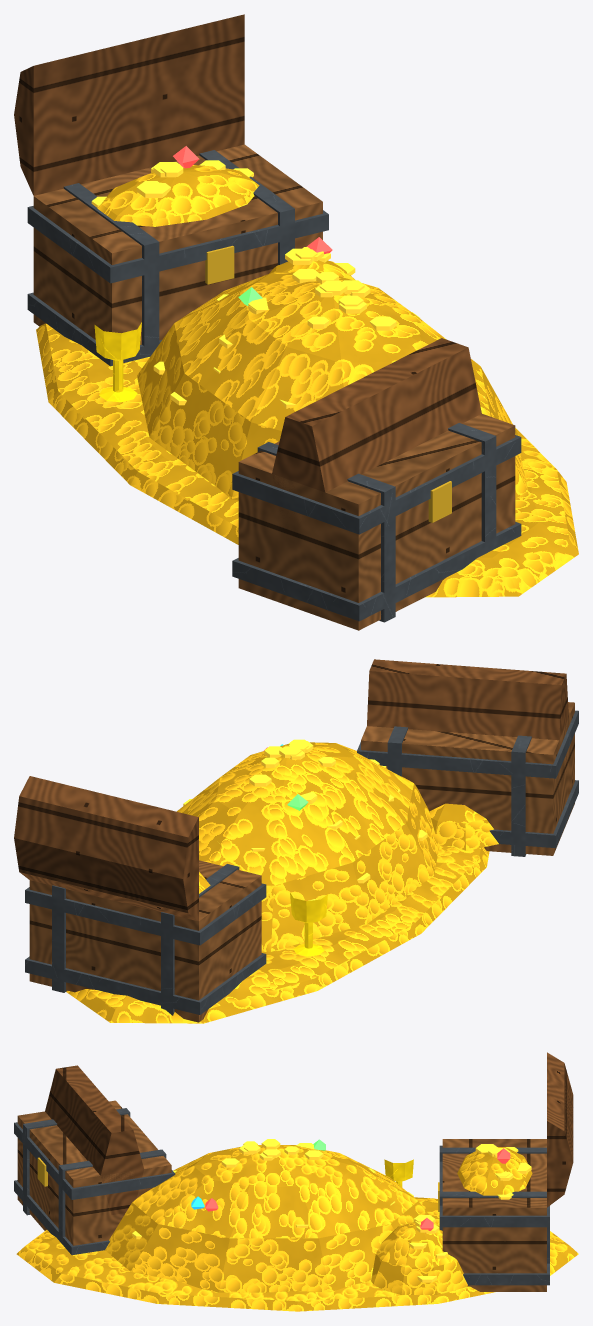
File: treasury_2.glb
3 views of the same model, one above another, from view 1: azimuth 30°, elevation 25°; view 2: azimuth 150°, elevation 25°; view 3: azimuth 270°, elevation 25° (orthographic). The views are drawn at different scales.
Parts seen in each view (by area): view 1: base_mesh; view 2: base_mesh; view 3: base_mesh.
Boxes of the visible parts, <box> form: base_mesh: <box>14,14,578,630</box>; base_mesh: <box>14,659,578,1023</box>; base_mesh: <box>14,1052,578,1311</box>.
Bounding box in the file's own units: 1.03 × 0.66 × 1.95.
Materials: 10 (5 with a texture image).
